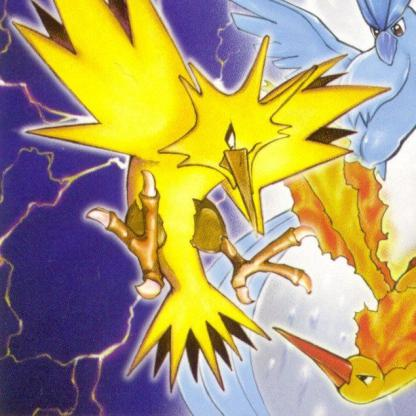Zapdos: (1, 1, 394, 390)
